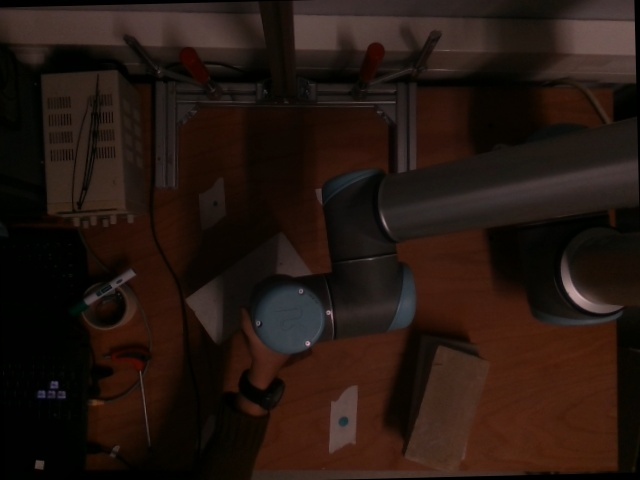brick: (405, 348, 491, 473)
